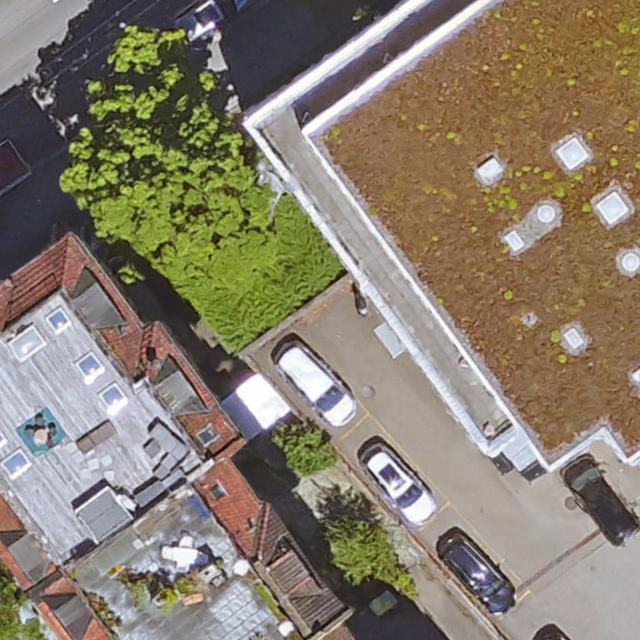tree: (64, 31, 265, 259), (326, 521, 399, 581)
